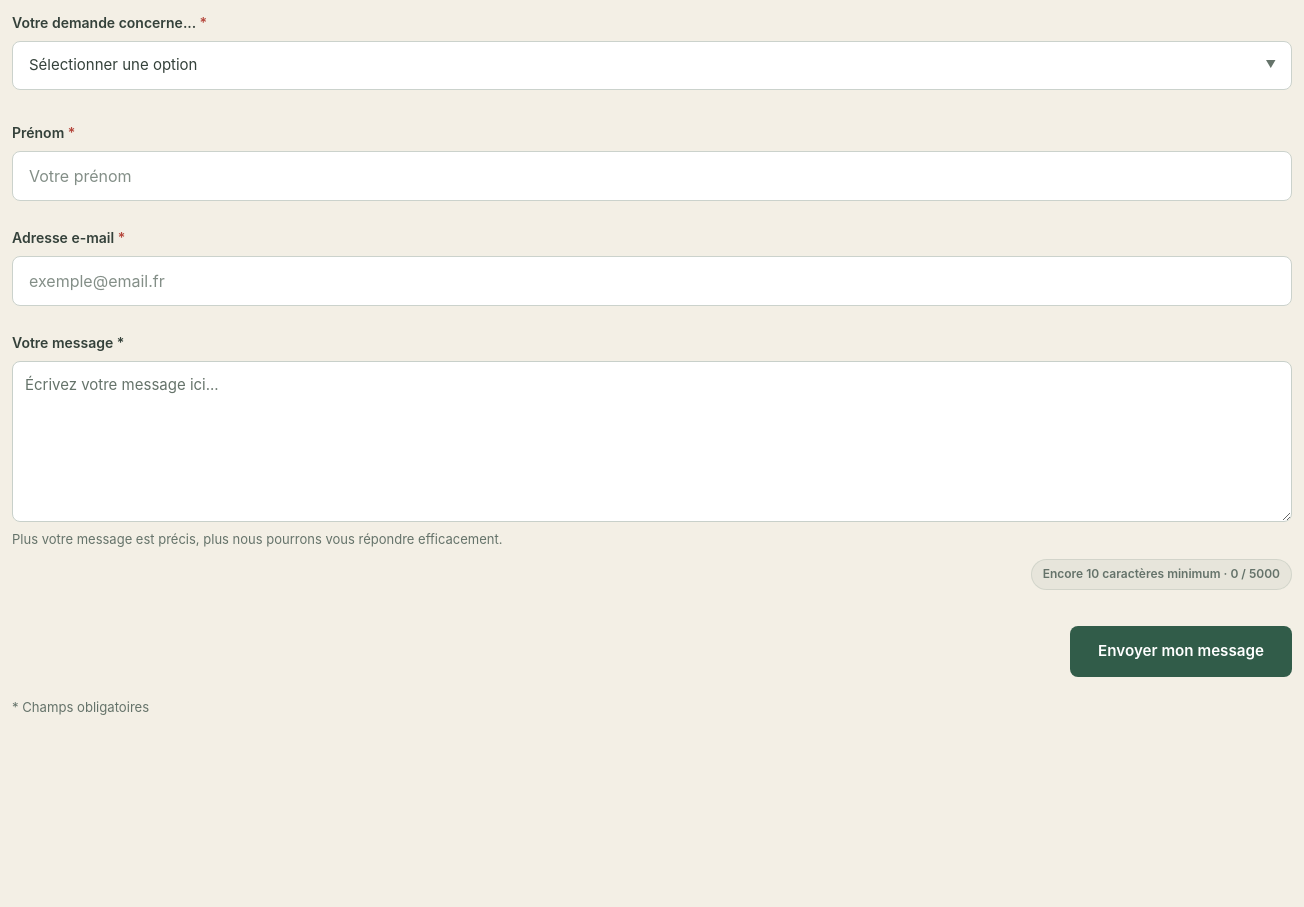
Test case: ContactForm › conserve les champs communs lors d'un changement de motif
In the field labelled "Prénom *": [652, 176] box [12,150,1292,200], type "Mélissa"
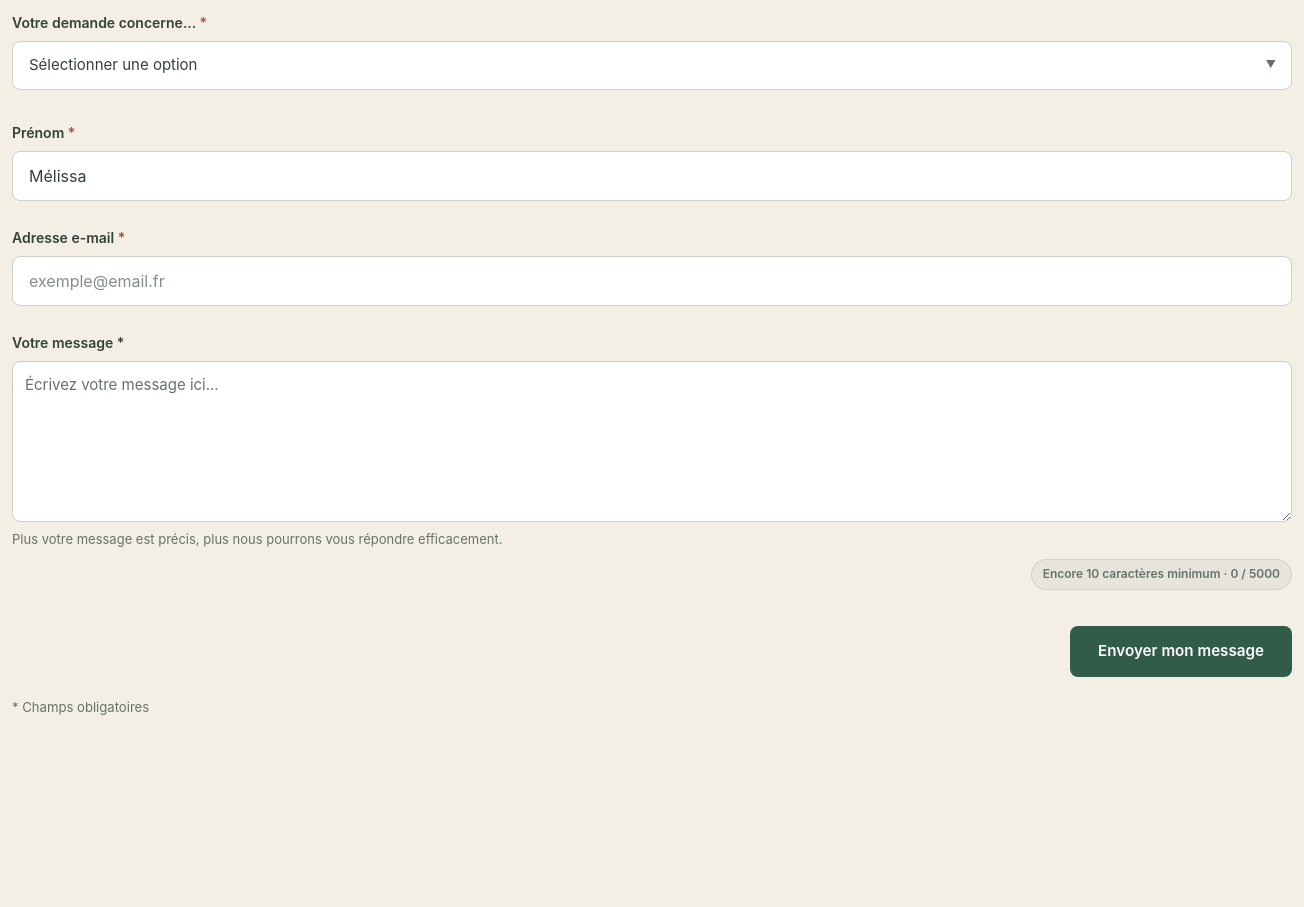
In the field labelled "Adresse e-mail *": [652, 280] box [12,256,1292,306], type "melissa@example.com"
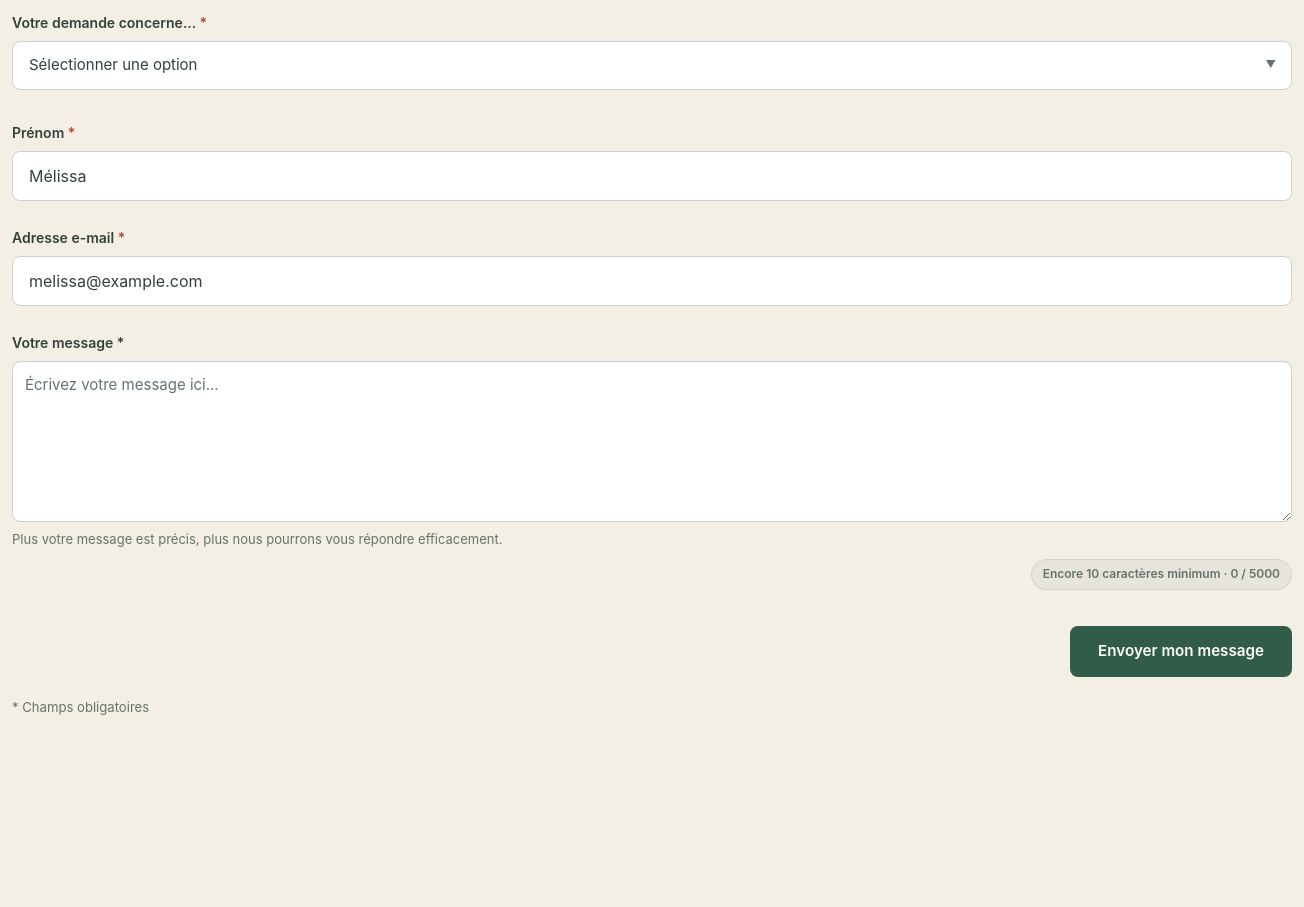
In the text box labelled "Votre message *": [652, 441] box [12,360,1292,522], type "Voici mon message."
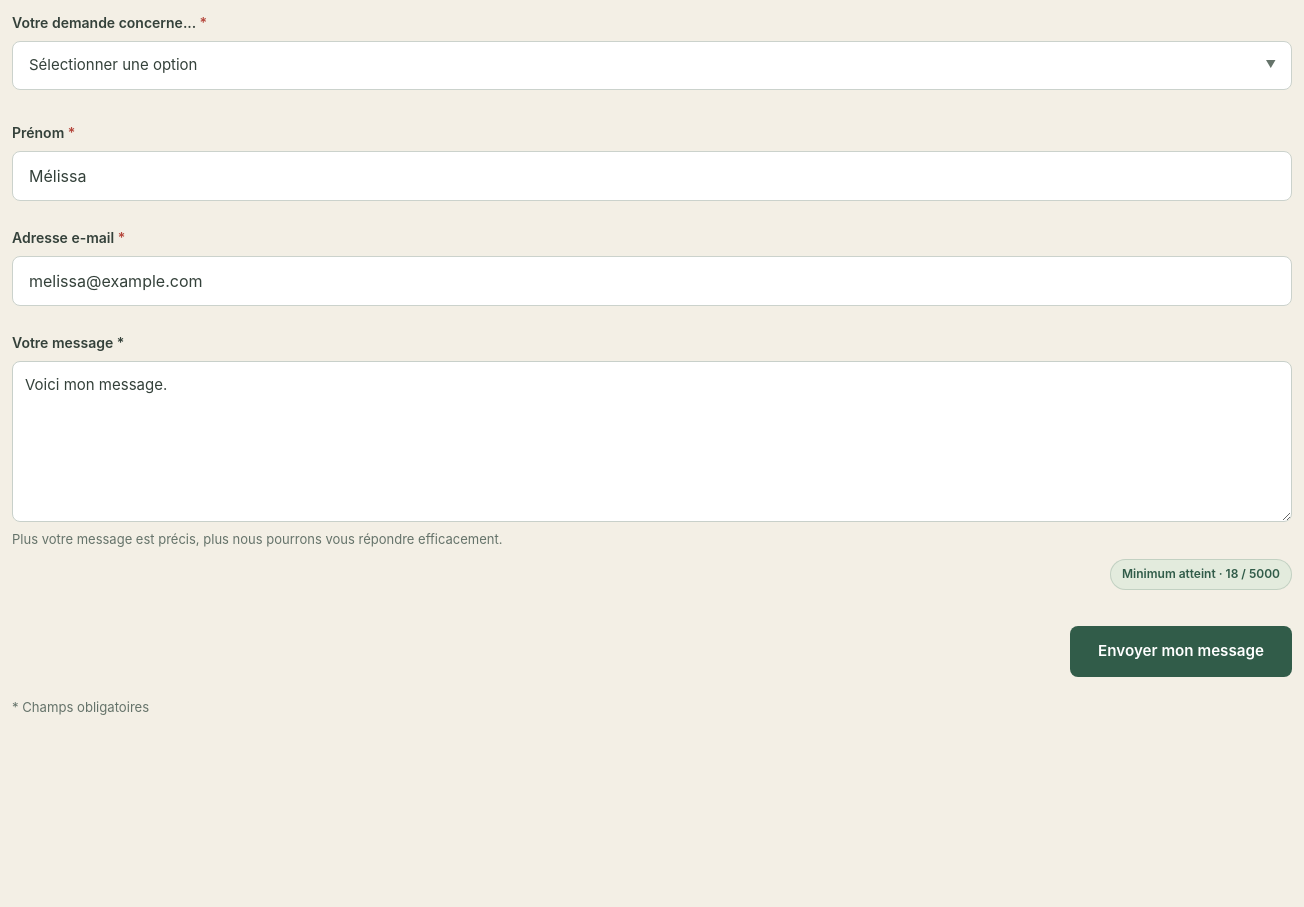
Select "Proposer un nouveau lieu de balade" in the dropdown labelled "Votre demande concerne... *": [652, 65] box [12,41,1292,90]
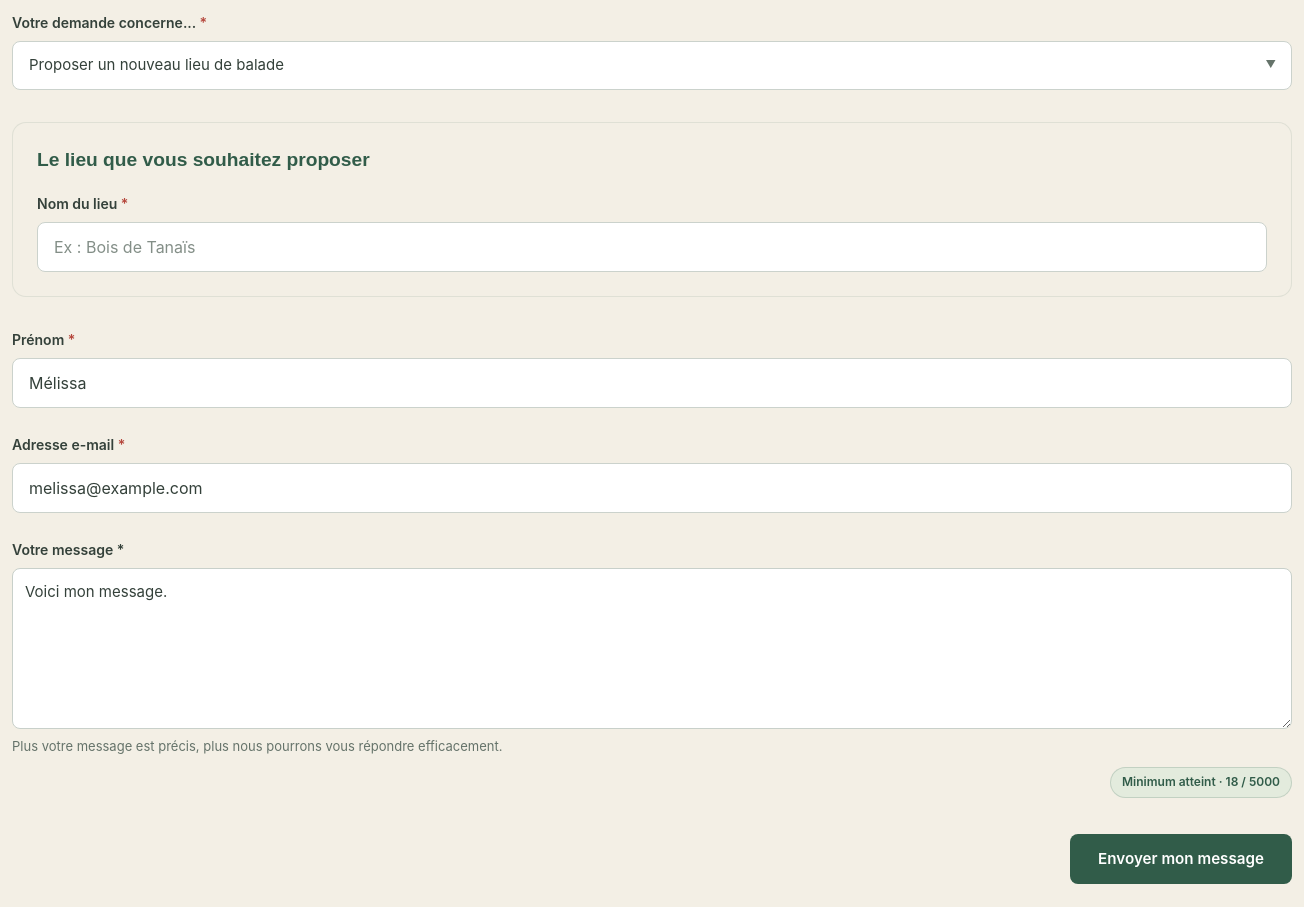
In the field labelled "Nom du lieu *": [652, 247] box [37,222,1267,272], type "Bois de Tanaïs"
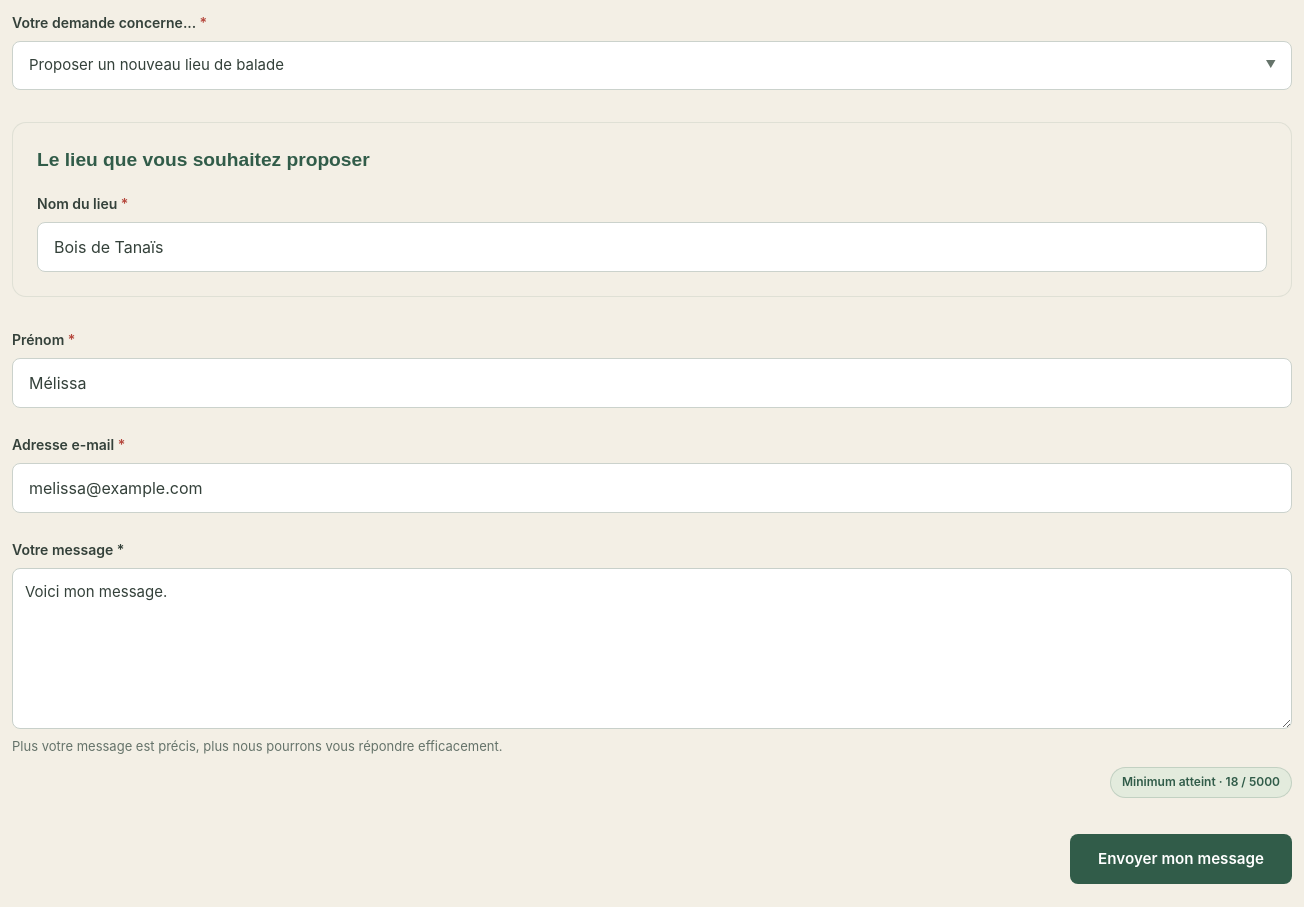
Select "Une question" in the dropdown labelled "Votre demande concerne... *": [652, 65] box [12,41,1292,90]
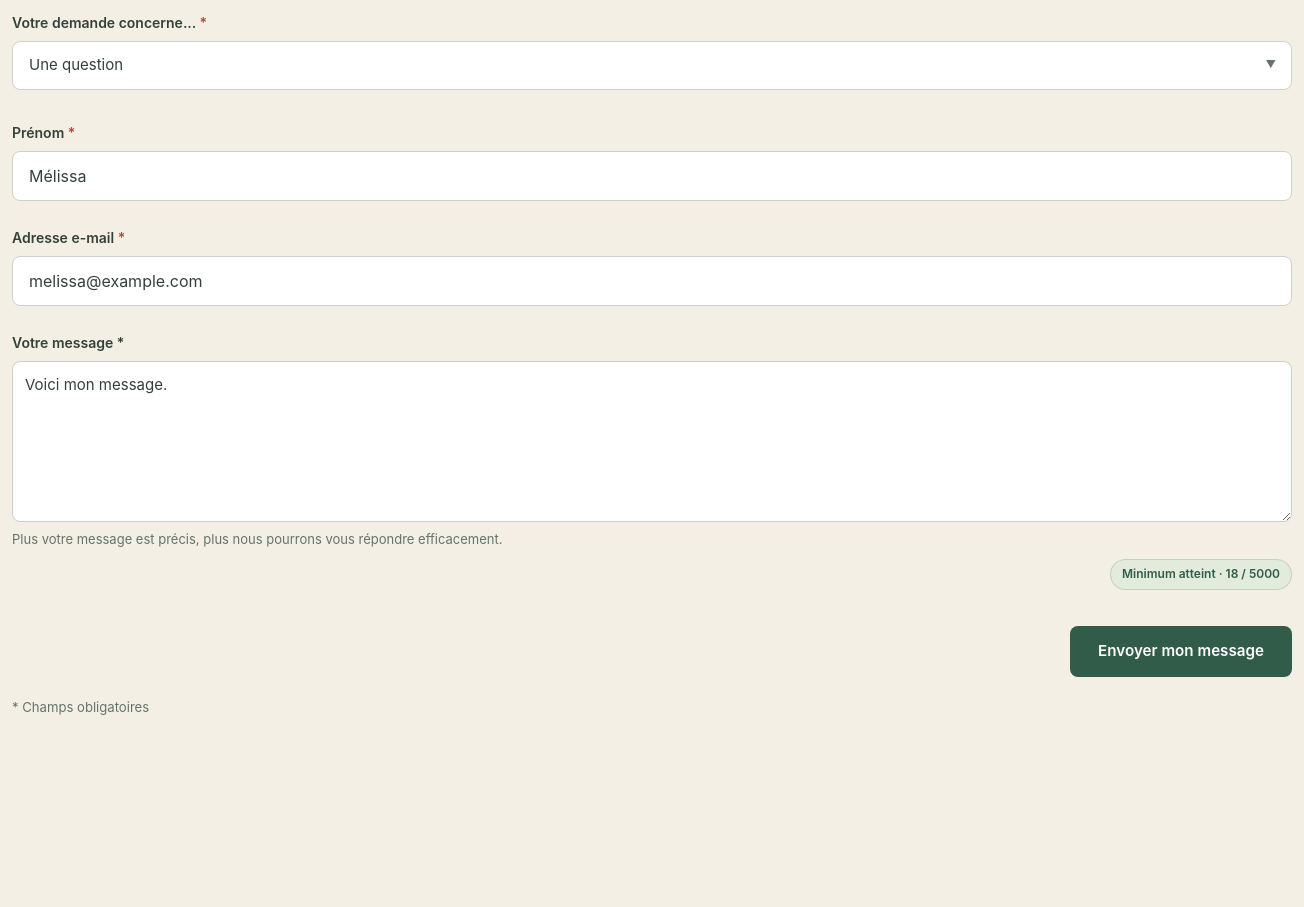
Expected: the label labelled "Nom du lieu" is gone
